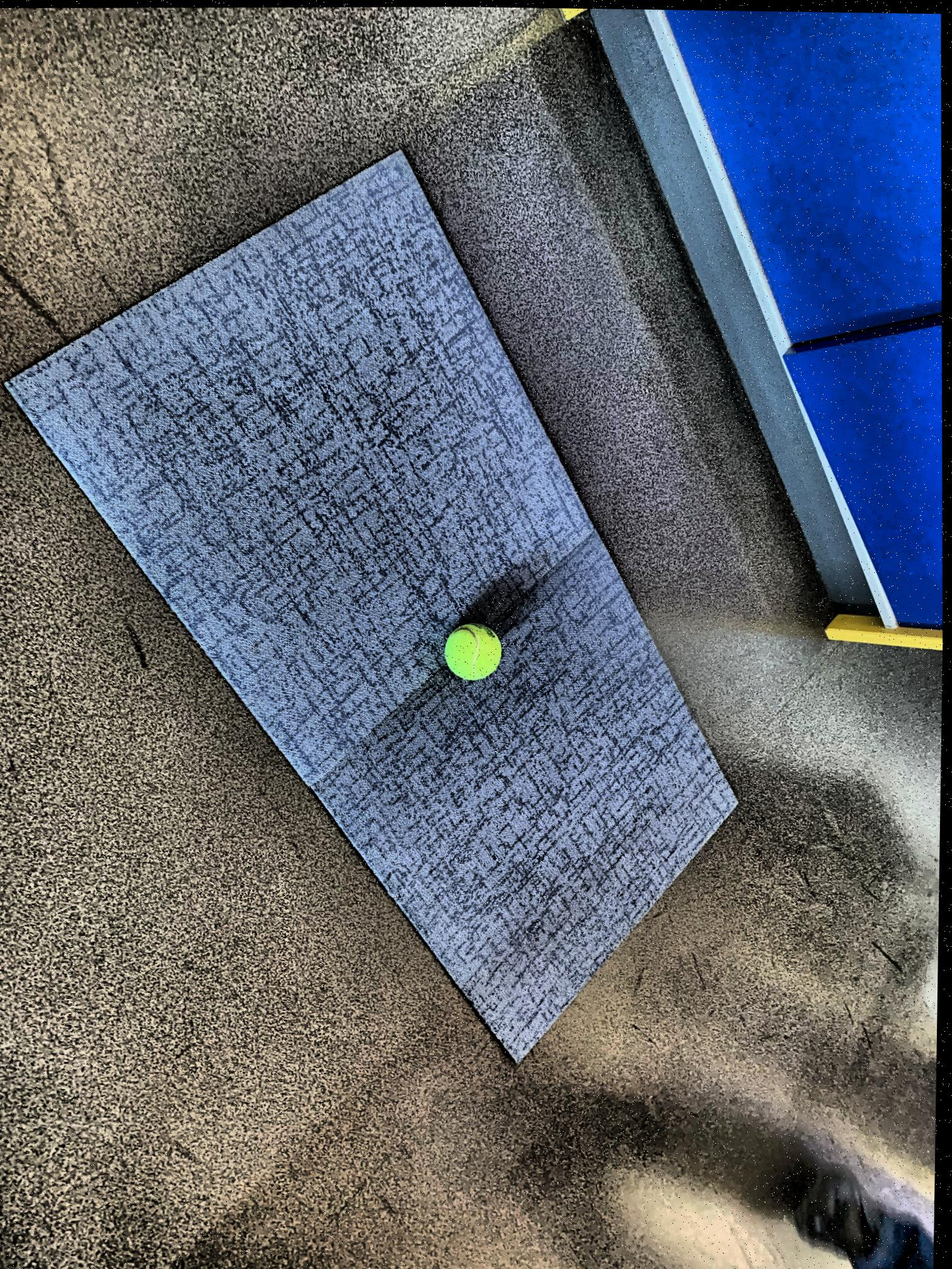Tennis_Ball: (437, 604, 513, 693)
